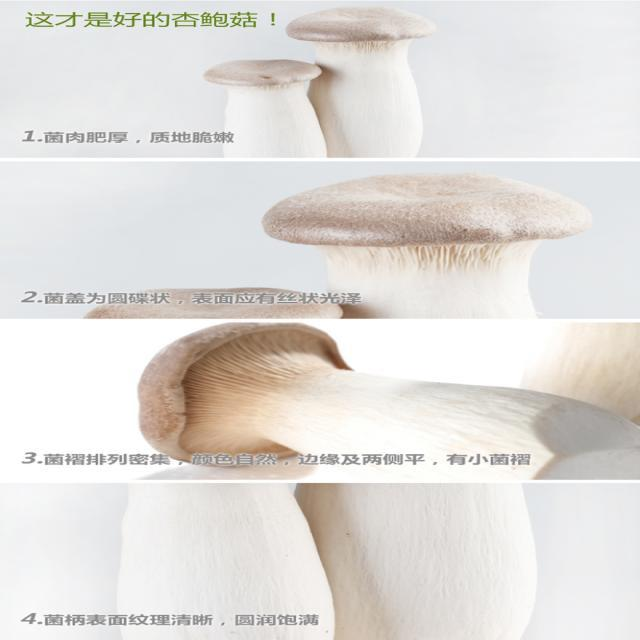Pleurotus eryngii: (141, 328, 640, 480), (270, 177, 593, 320), (209, 8, 438, 156)
